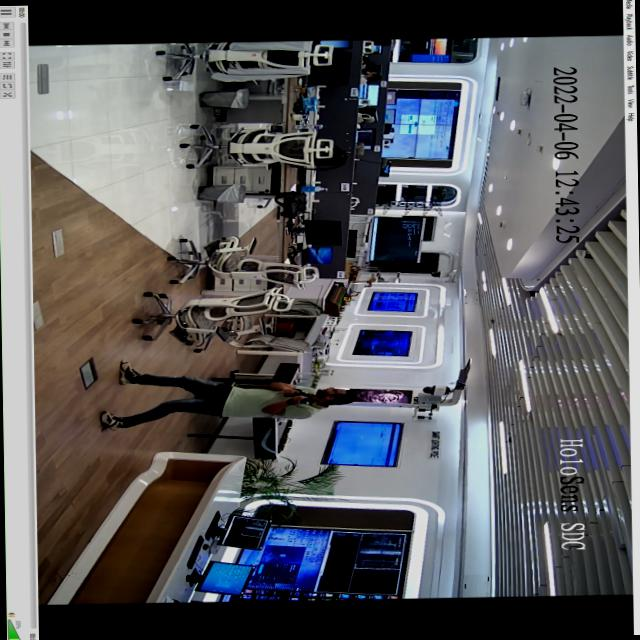long weapon: (284, 383, 318, 412)
